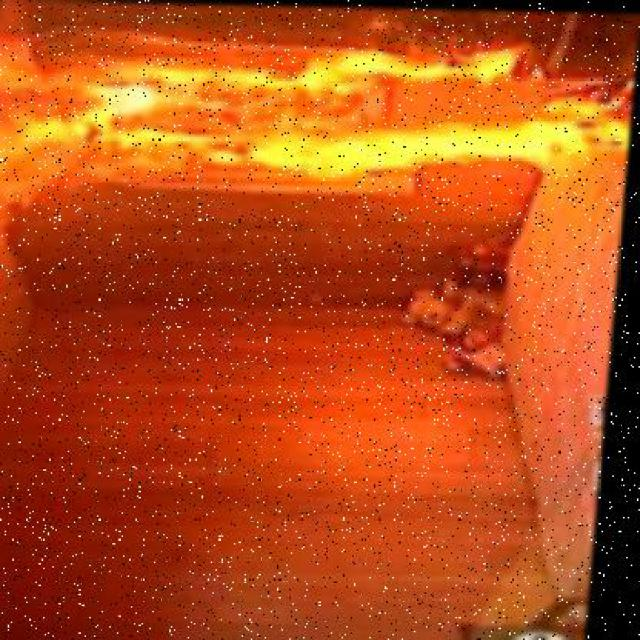fire: (1, 13, 638, 189)
